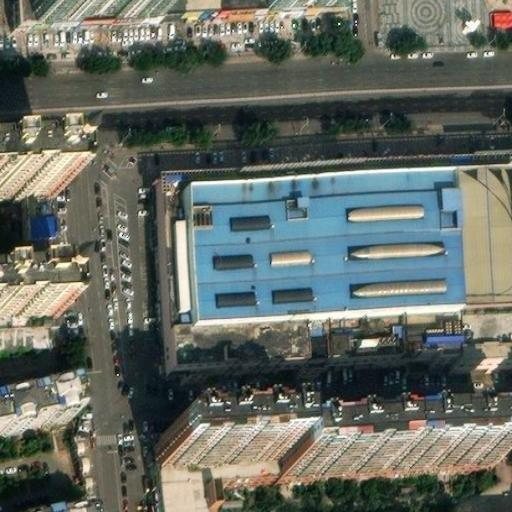building: (162, 144, 512, 353), (287, 421, 501, 463), (162, 451, 288, 512), (159, 418, 288, 456), (0, 384, 80, 435), (0, 140, 84, 184), (0, 276, 69, 317), (36, 180, 80, 234), (446, 337, 512, 373), (3, 500, 82, 512), (487, 5, 512, 27)
